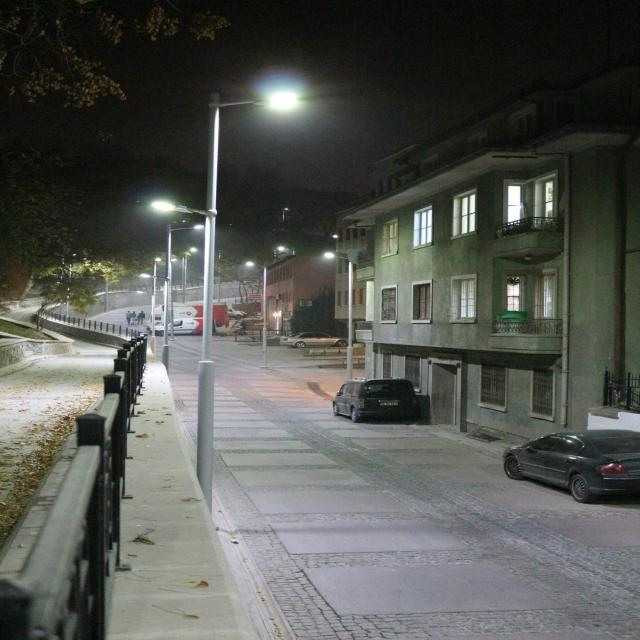Street Light: (195, 90, 303, 536), (149, 198, 220, 423), (164, 224, 206, 382), (323, 253, 357, 392), (244, 260, 273, 366)
